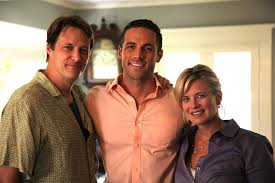Bad: (94, 19, 275, 183), (1, 16, 175, 183)
